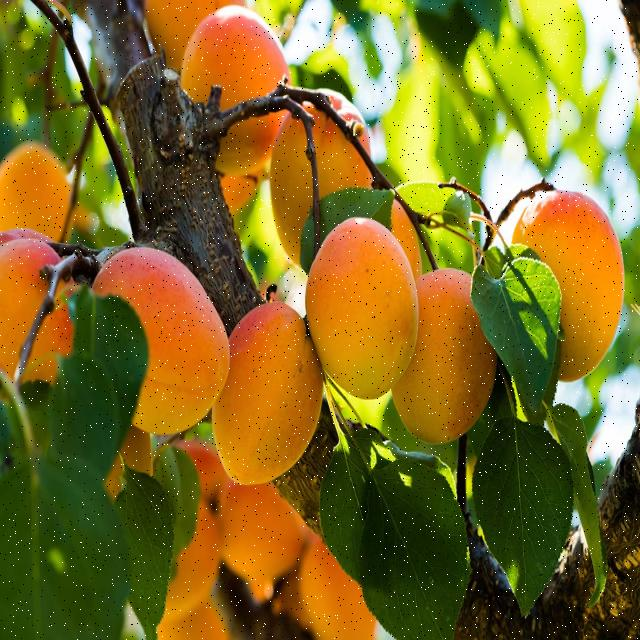kayisi: (101, 237, 216, 427), (320, 221, 418, 408), (534, 216, 640, 353), (248, 301, 314, 513), (171, 37, 289, 155), (428, 261, 503, 441), (212, 503, 326, 600), (311, 88, 374, 240), (5, 242, 72, 378), (152, 0, 260, 73), (153, 498, 216, 623), (307, 533, 377, 640), (10, 151, 69, 239)
yaprak: (408, 8, 620, 170), (26, 402, 126, 640), (365, 445, 481, 636), (491, 447, 581, 610), (480, 242, 564, 395)
